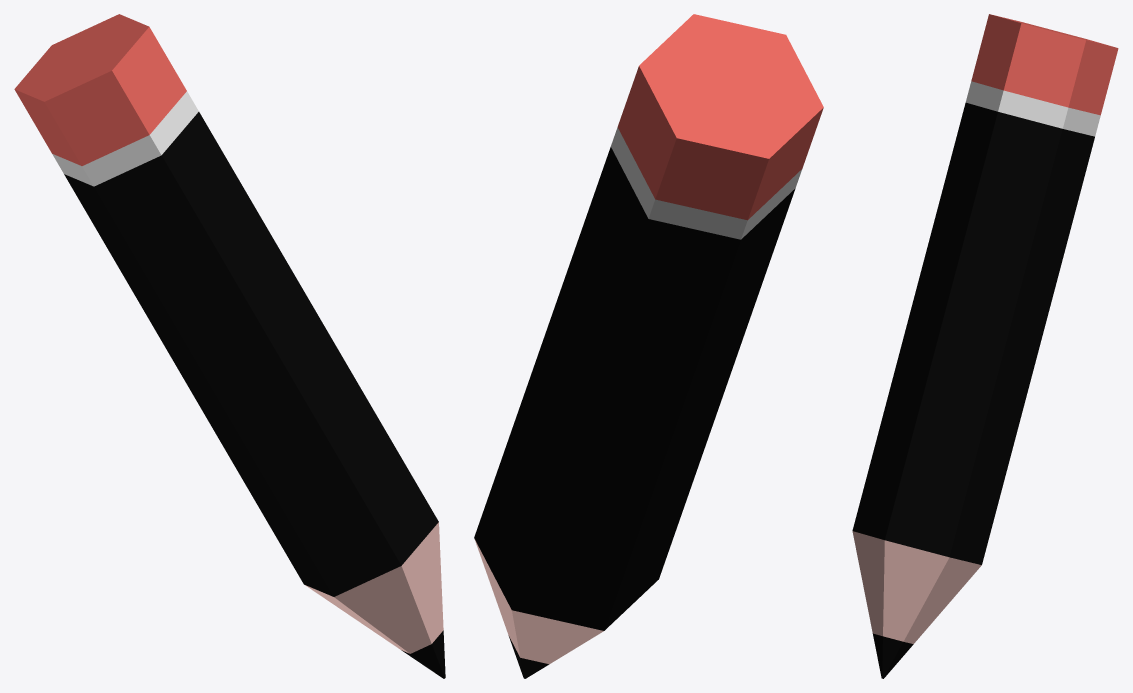
Rendered from pen.dae.
The picture shows the model from 3 angles, left to right: view 1: azimuth 30°, elevation 25°; view 2: azimuth 150°, elevation 25°; view 3: azimuth 270°, elevation 25°; orthographic projection. The views are drawn at different scales.
Visible parts, largest first — view 1: Cylinder; view 2: Cylinder; view 3: Cylinder.
Part boxes in pixels (<box>): Cylinder: <box>14,14,445,678</box>; Cylinder: <box>474,14,823,678</box>; Cylinder: <box>852,14,1118,678</box>.
Bounding box in the file's own units: 4.86 × 3.97 × 9.29.
